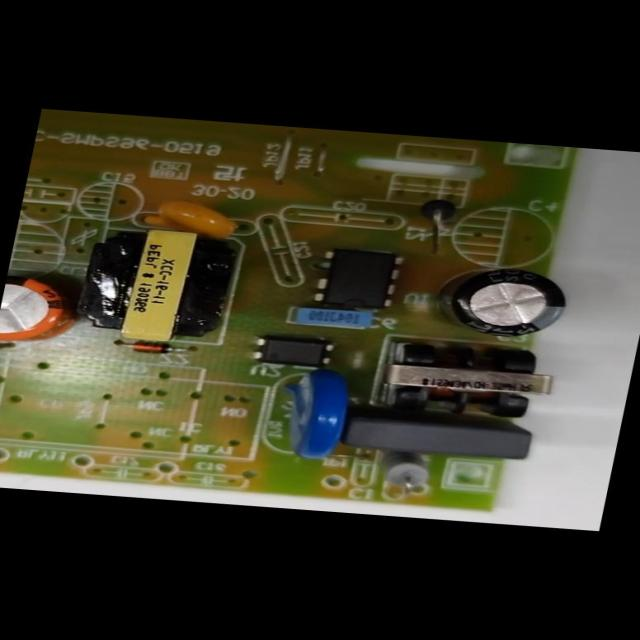Cap1: (0, 276, 78, 346)
Cap3: (424, 264, 570, 340)
MOSFET: (312, 248, 406, 311)
Mov: (272, 370, 356, 461)
Resistor: (371, 450, 435, 495)
Transformer: (73, 227, 239, 348), (380, 340, 560, 422)
